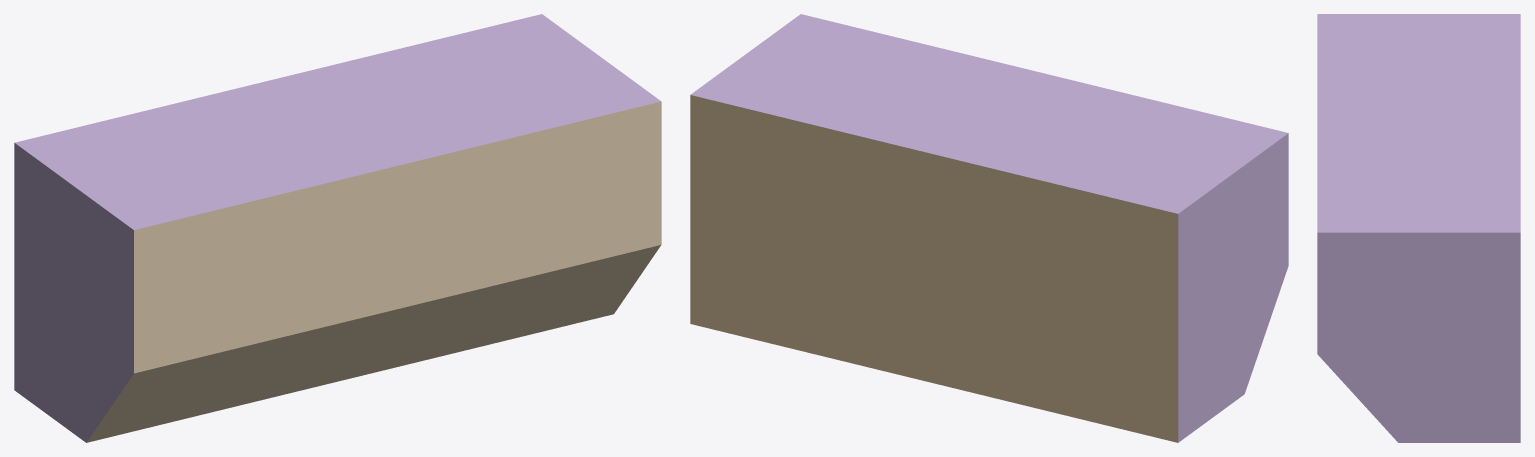
Rendered from concord.gltf.
The picture shows the model from 3 angles, left to right: view 1: azimuth 30°, elevation 25°; view 2: azimuth 150°, elevation 25°; view 3: azimuth 270°, elevation 25°; orthographic projection. The views are drawn at different scales.
Parts seen in each view (by area): view 1: concord; view 2: concord; view 3: concord.
Boxes of the visible parts, bbox=[...] form: concord: bbox=[14, 14, 661, 442]; concord: bbox=[690, 14, 1288, 442]; concord: bbox=[1317, 14, 1520, 442].
Size of the model in its own units: 12.43 by 5.58 by 4.88.
